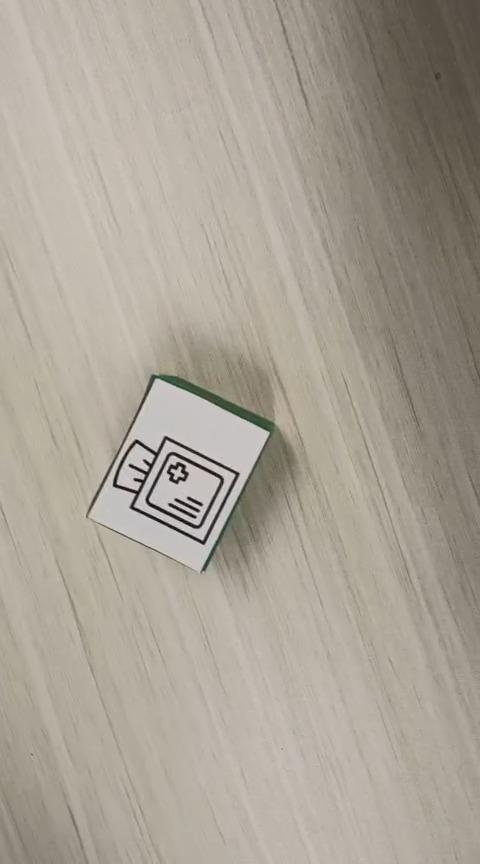Gauze: (85, 372, 275, 574)
